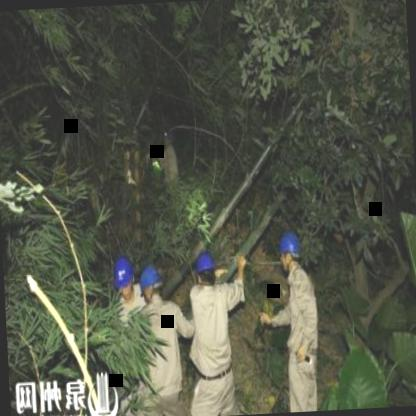helmet: (110, 253, 138, 306), (274, 228, 304, 274), (192, 251, 220, 291), (136, 263, 162, 306)
